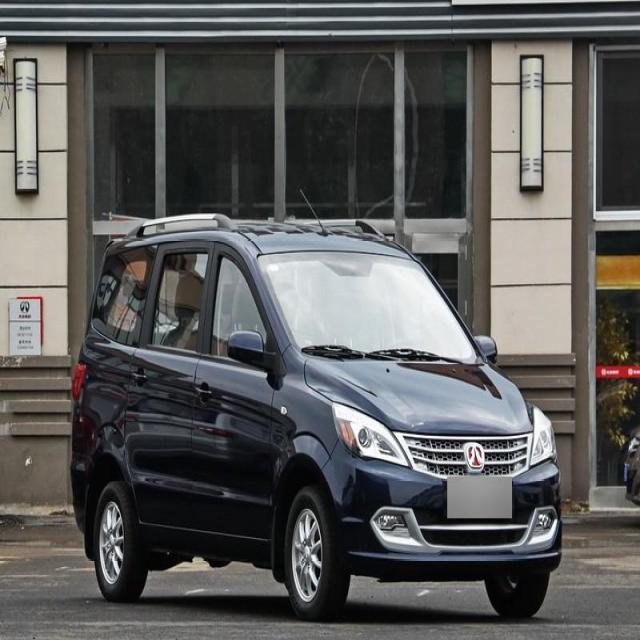back_right_side_light: (70, 358, 90, 399)
door: (137, 242, 215, 540)
front_bumper: (316, 440, 566, 568)
front_glass: (258, 244, 481, 368)
front_left_side_light: (526, 404, 556, 471)
front_left_side_mirror: (473, 326, 502, 364)
front_right_side_door: (186, 230, 280, 550)
front_right_side_light: (332, 398, 414, 470)
front_right_side_mirror: (226, 325, 272, 373)
wheel: (282, 485, 346, 618), (92, 479, 146, 598)
